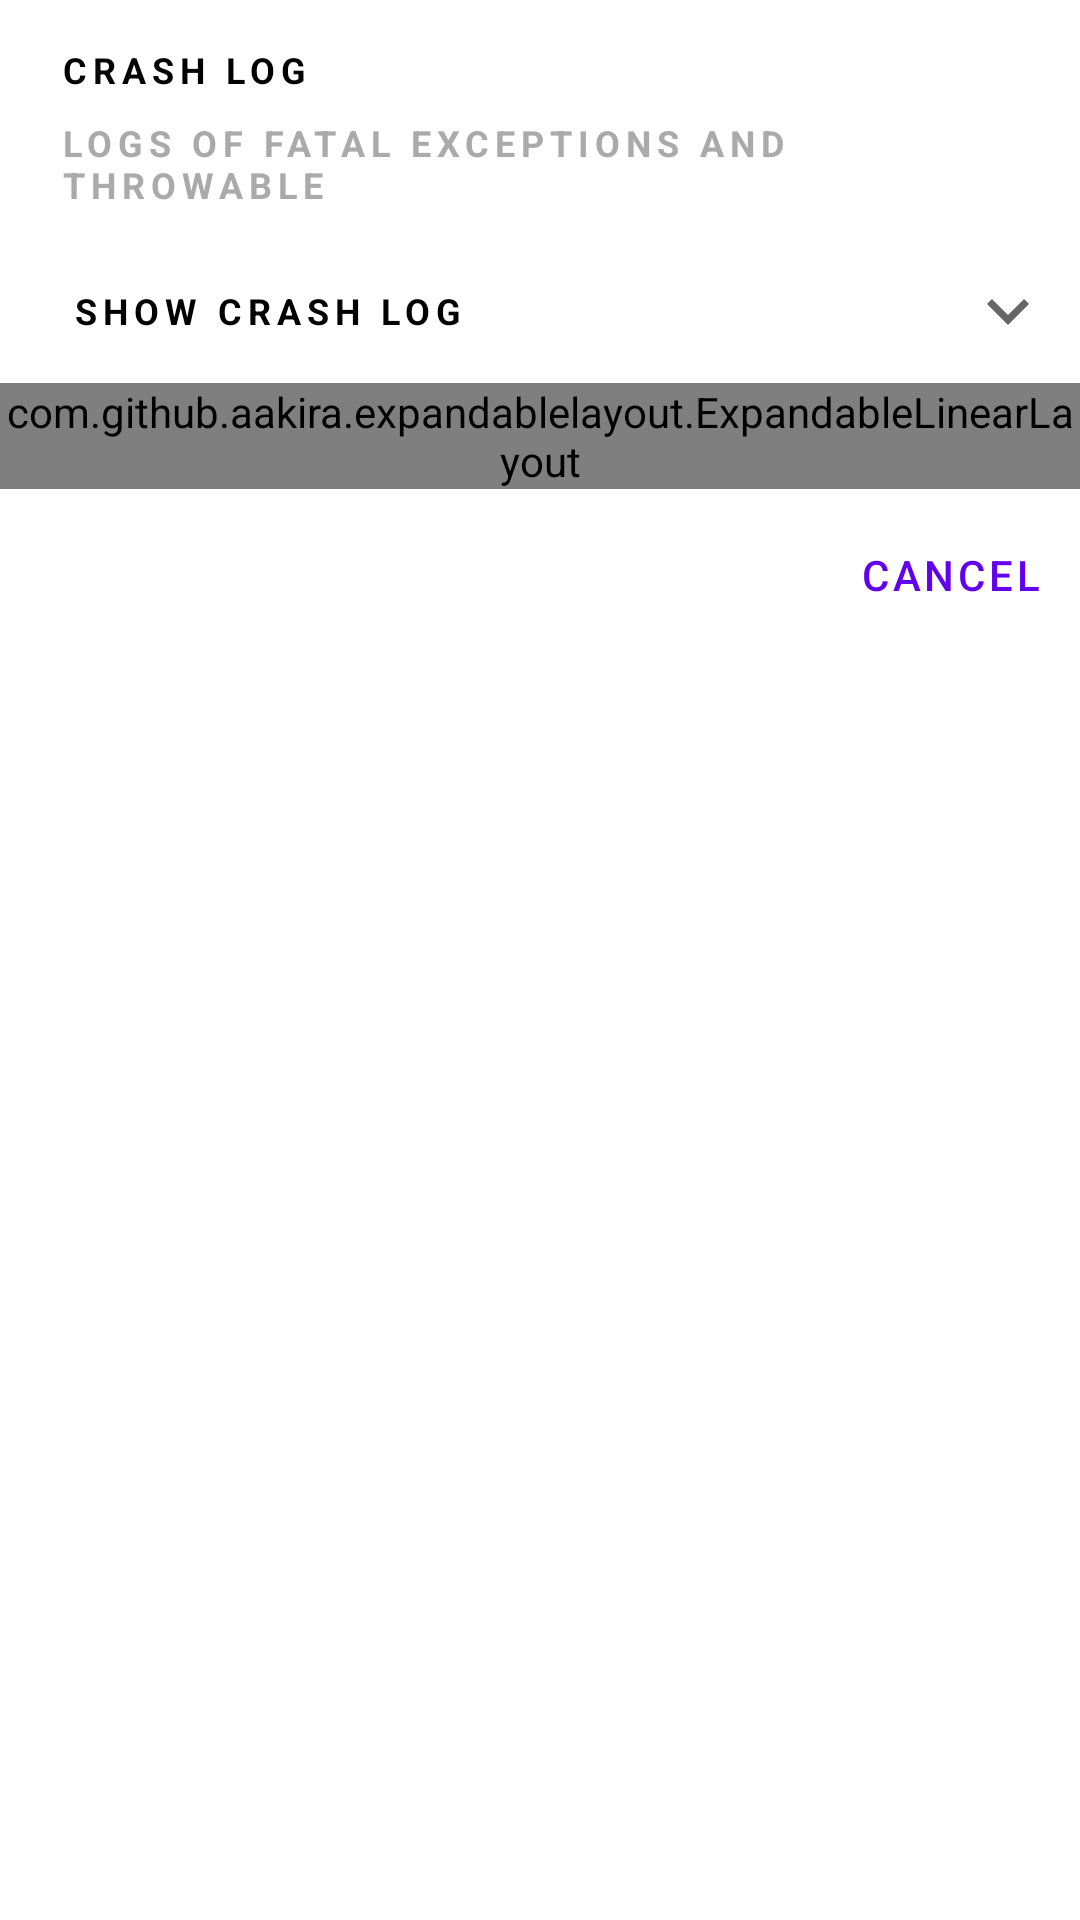

Screen size 1080×1920. Icon name, then its box in pixels as [x1=x1, y1=y1, x2=x2, y2=y2]:
arrow down: [x1=987, y1=299, x2=1029, y2=325]
